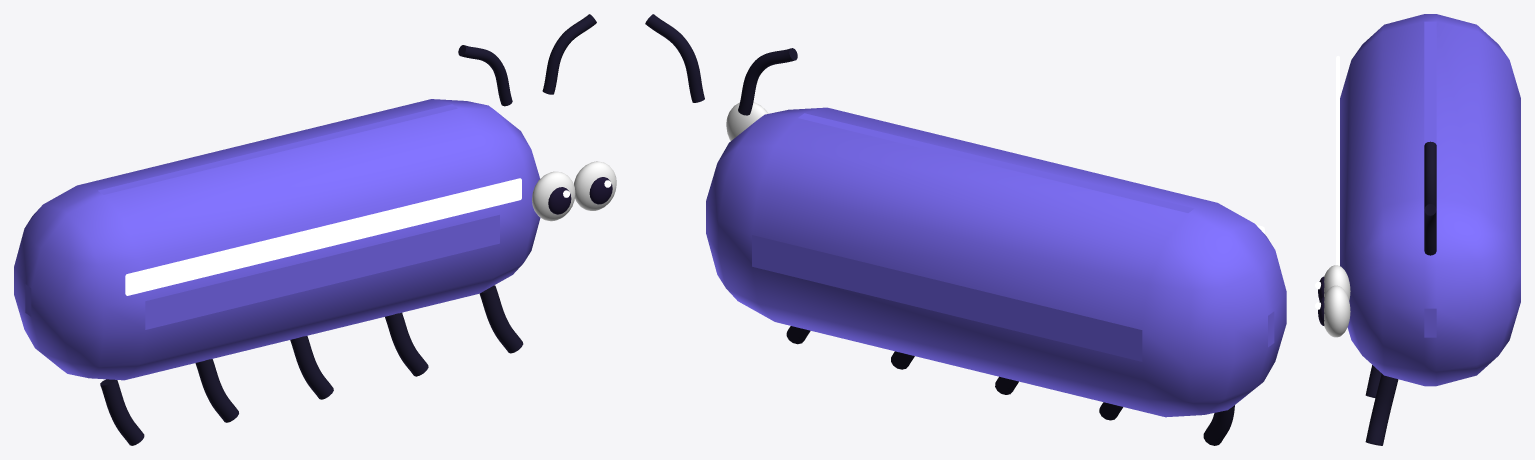
Rendered from clanek_fialovy.glb.
3 renders of one model, left to right at view 1: azimuth 30°, elevation 25°; view 2: azimuth 150°, elevation 25°; view 3: azimuth 270°, elevation 25°, orthographic. The views are drawn at different scales.
Visible parts, largest first — view 1: clanek_fialovy_m, clanek_fialovy_pruh, hlava_fialovy, clanek_fialovy_noha_m_-2, clanek_fialovy_noha_m_2, clanek_fialovy_noha_m_0, clanek_fialovy_noha_m_1, clanek_fialovy_noha_m_-1, hlava_fialovy_tykadlo_-1; view 2: clanek_fialovy_m, hlava_fialovy, hlava_fialovy_tykadlo_-1, clanek_fialovy_noha_m_-2; view 3: clanek_fialovy_m, hlava_fialovy, clanek_fialovy_noha_m_2, clanek_fialovy_pruh, hlava_fialovy_tykadlo_-1, clanek_fialovy_noha_m_1.
Boxes of the visible parts, x1,y1,x2,y2 form: clanek_fialovy_m: (14, 99, 540, 380); clanek_fialovy_pruh: (125, 178, 521, 295); hlava_fialovy: (532, 14, 616, 221); clanek_fialovy_noha_m_-2: (100, 379, 144, 445); clanek_fialovy_noha_m_2: (479, 285, 523, 353); clanek_fialovy_noha_m_0: (290, 336, 333, 399); clanek_fialovy_noha_m_1: (385, 312, 428, 376); clanek_fialovy_noha_m_-1: (195, 359, 238, 422); hlava_fialovy_tykadlo_-1: (458, 45, 512, 106); clanek_fialovy_m: (706, 107, 1286, 417); hlava_fialovy: (645, 14, 768, 140); hlava_fialovy_tykadlo_-1: (738, 48, 797, 115); clanek_fialovy_noha_m_-2: (1203, 405, 1234, 445); clanek_fialovy_m: (1340, 14, 1520, 386); hlava_fialovy: (1315, 203, 1436, 337); clanek_fialovy_noha_m_2: (1365, 373, 1398, 445); clanek_fialovy_pruh: (1336, 56, 1339, 265); hlava_fialovy_tykadlo_-1: (1424, 141, 1436, 208); clanek_fialovy_noha_m_1: (1365, 365, 1381, 397).
Bounding box in the file's own units: 3.29 × 1.62 × 1.02.
